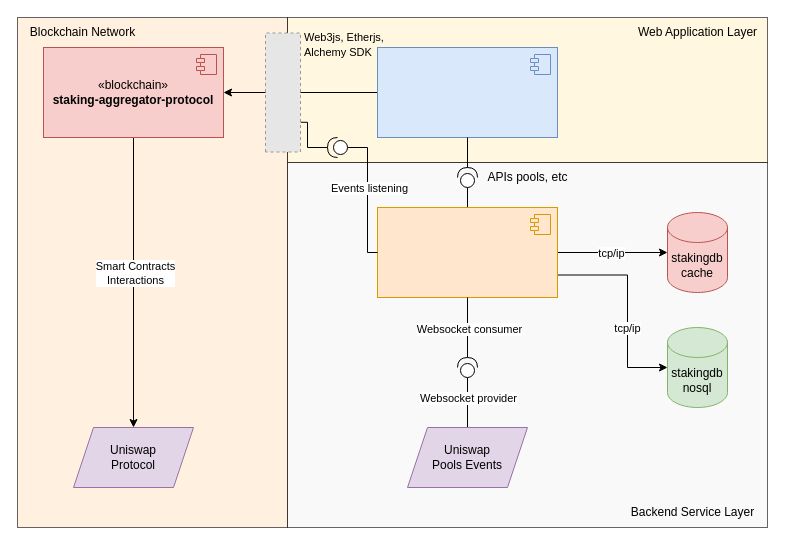
The diagram is 785 pixels wide and 545 high, and some of its shapes have lost their labels. Grey dashed boxes stand in for pictures. The centre of each missing label's shape, as x and y in pixels:
"«backend» staking-aggregator-service" belongs at (x=467, y=252).
"«frontend» 77Staking Dapp" belongs at (x=467, y=92).
